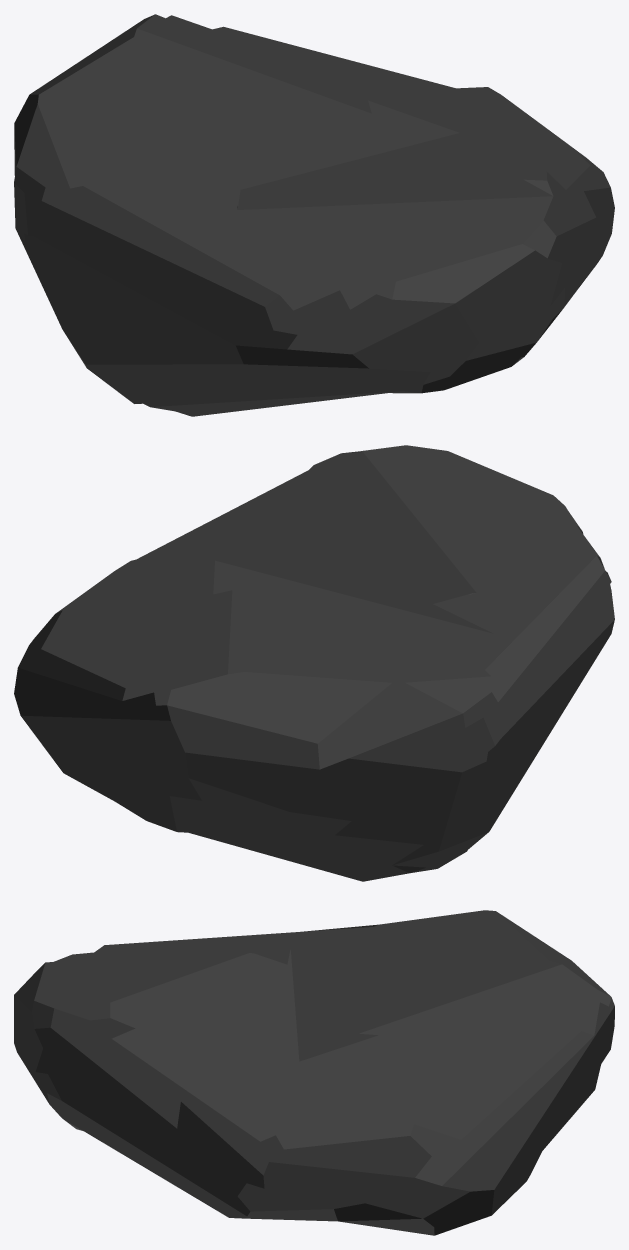
Rendered from Rock01.fbx.
The picture shows the model from 3 angles, top to bottom: view 1: azimuth 30°, elevation 25°; view 2: azimuth 150°, elevation 25°; view 3: azimuth 270°, elevation 25°; orthographic projection. The views are drawn at different scales.
Visible parts, largest first — view 1: Rock01; view 2: Rock01; view 3: Rock01.
Part boxes in pixels (x1=…): Rock01: x1=14, y1=14, x2=614, y2=416; Rock01: x1=14, y1=445, x2=614, y2=881; Rock01: x1=14, y1=910, x2=614, y2=1235.
Bounding box in the file's own units: 580 × 327 × 708.
